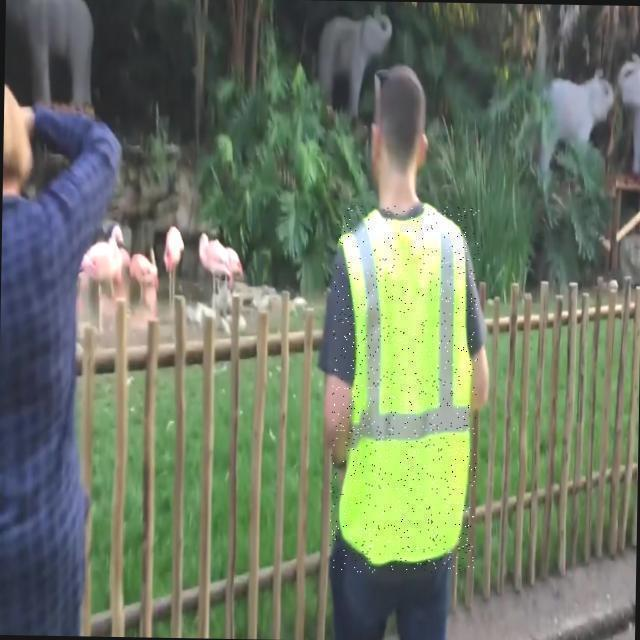no-helmet: (359, 59, 444, 167)
no-vest: (0, 204, 96, 640)
vest: (329, 204, 481, 574)
